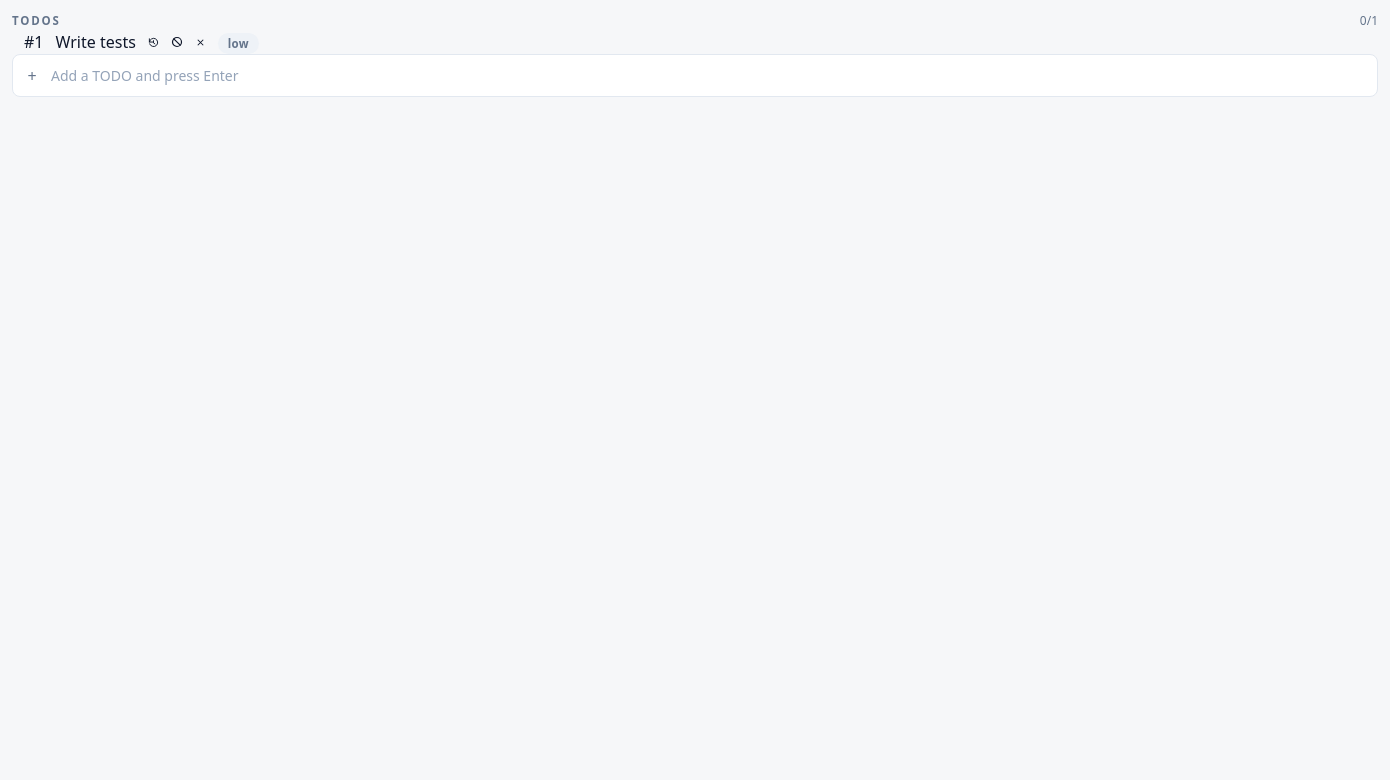
journal sections against real HTTP errors (#232) › undo-delete commit that the server answers with 404 › todo (remove from day): 404 shows the error alert and keeps the row
Expected: the button "Write tests" is shown, [56, 30, 136, 54]
Click the button named "Remove from day: Write tests" at (200,42), box [195, 36, 206, 48]
Wait 6000 ms
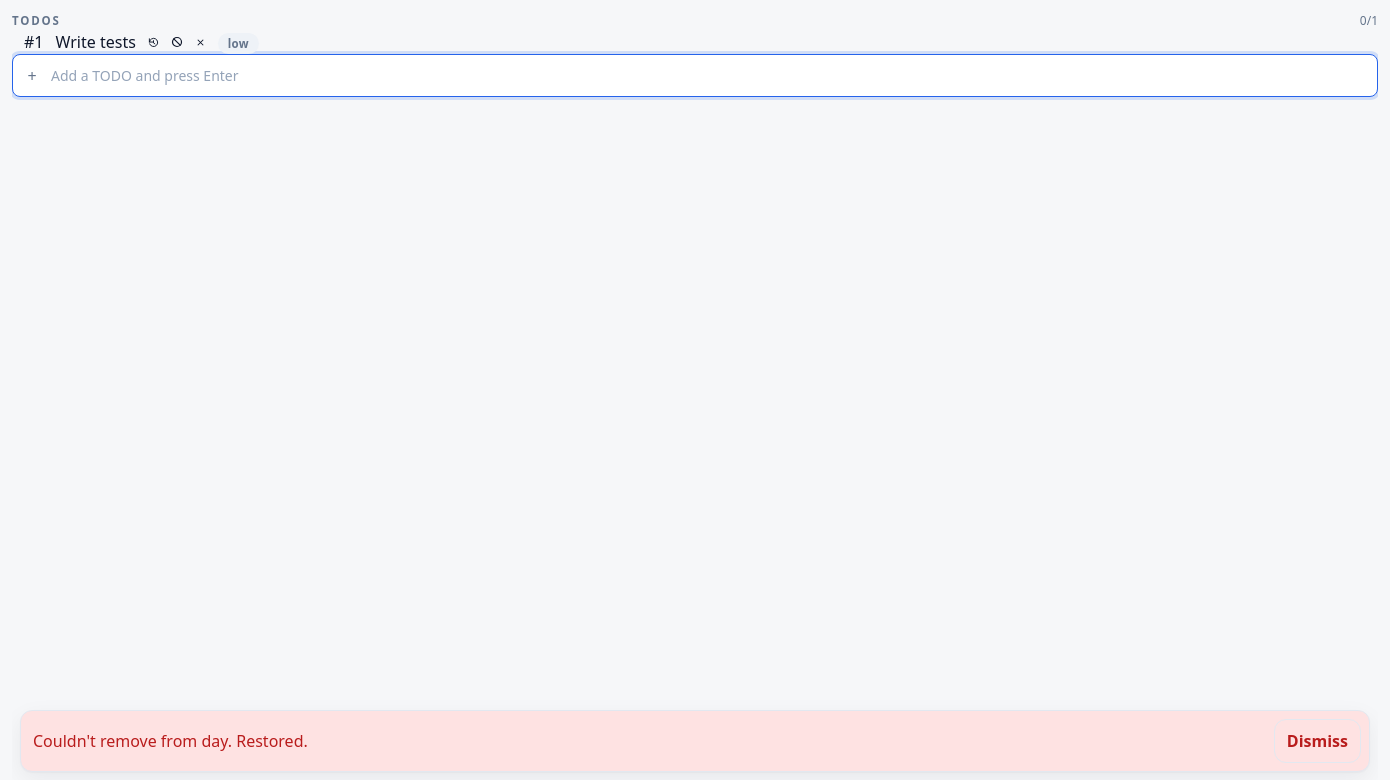
Expected: the button "Write tests" is shown, [56, 30, 136, 54]
Expected: the message shows "Couldn't remove from day. Restored.", [33, 730, 308, 752]
